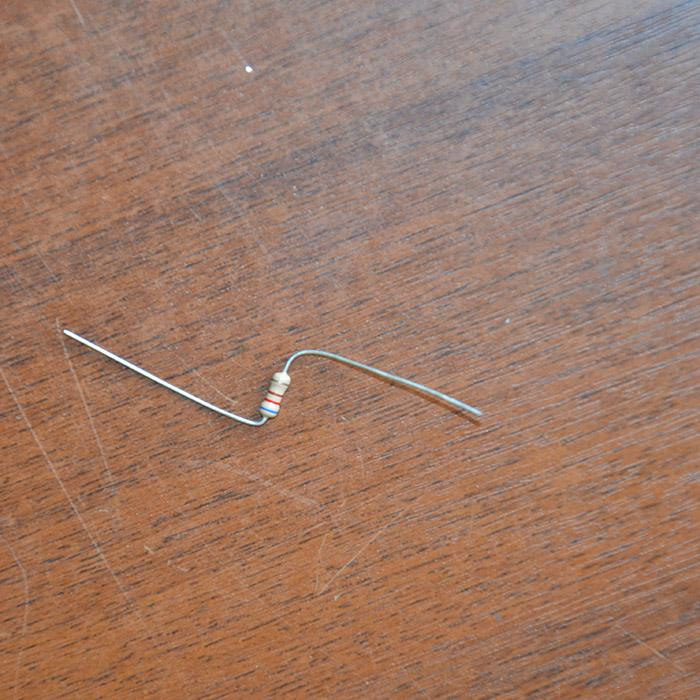resistor: (260, 370, 292, 419)
